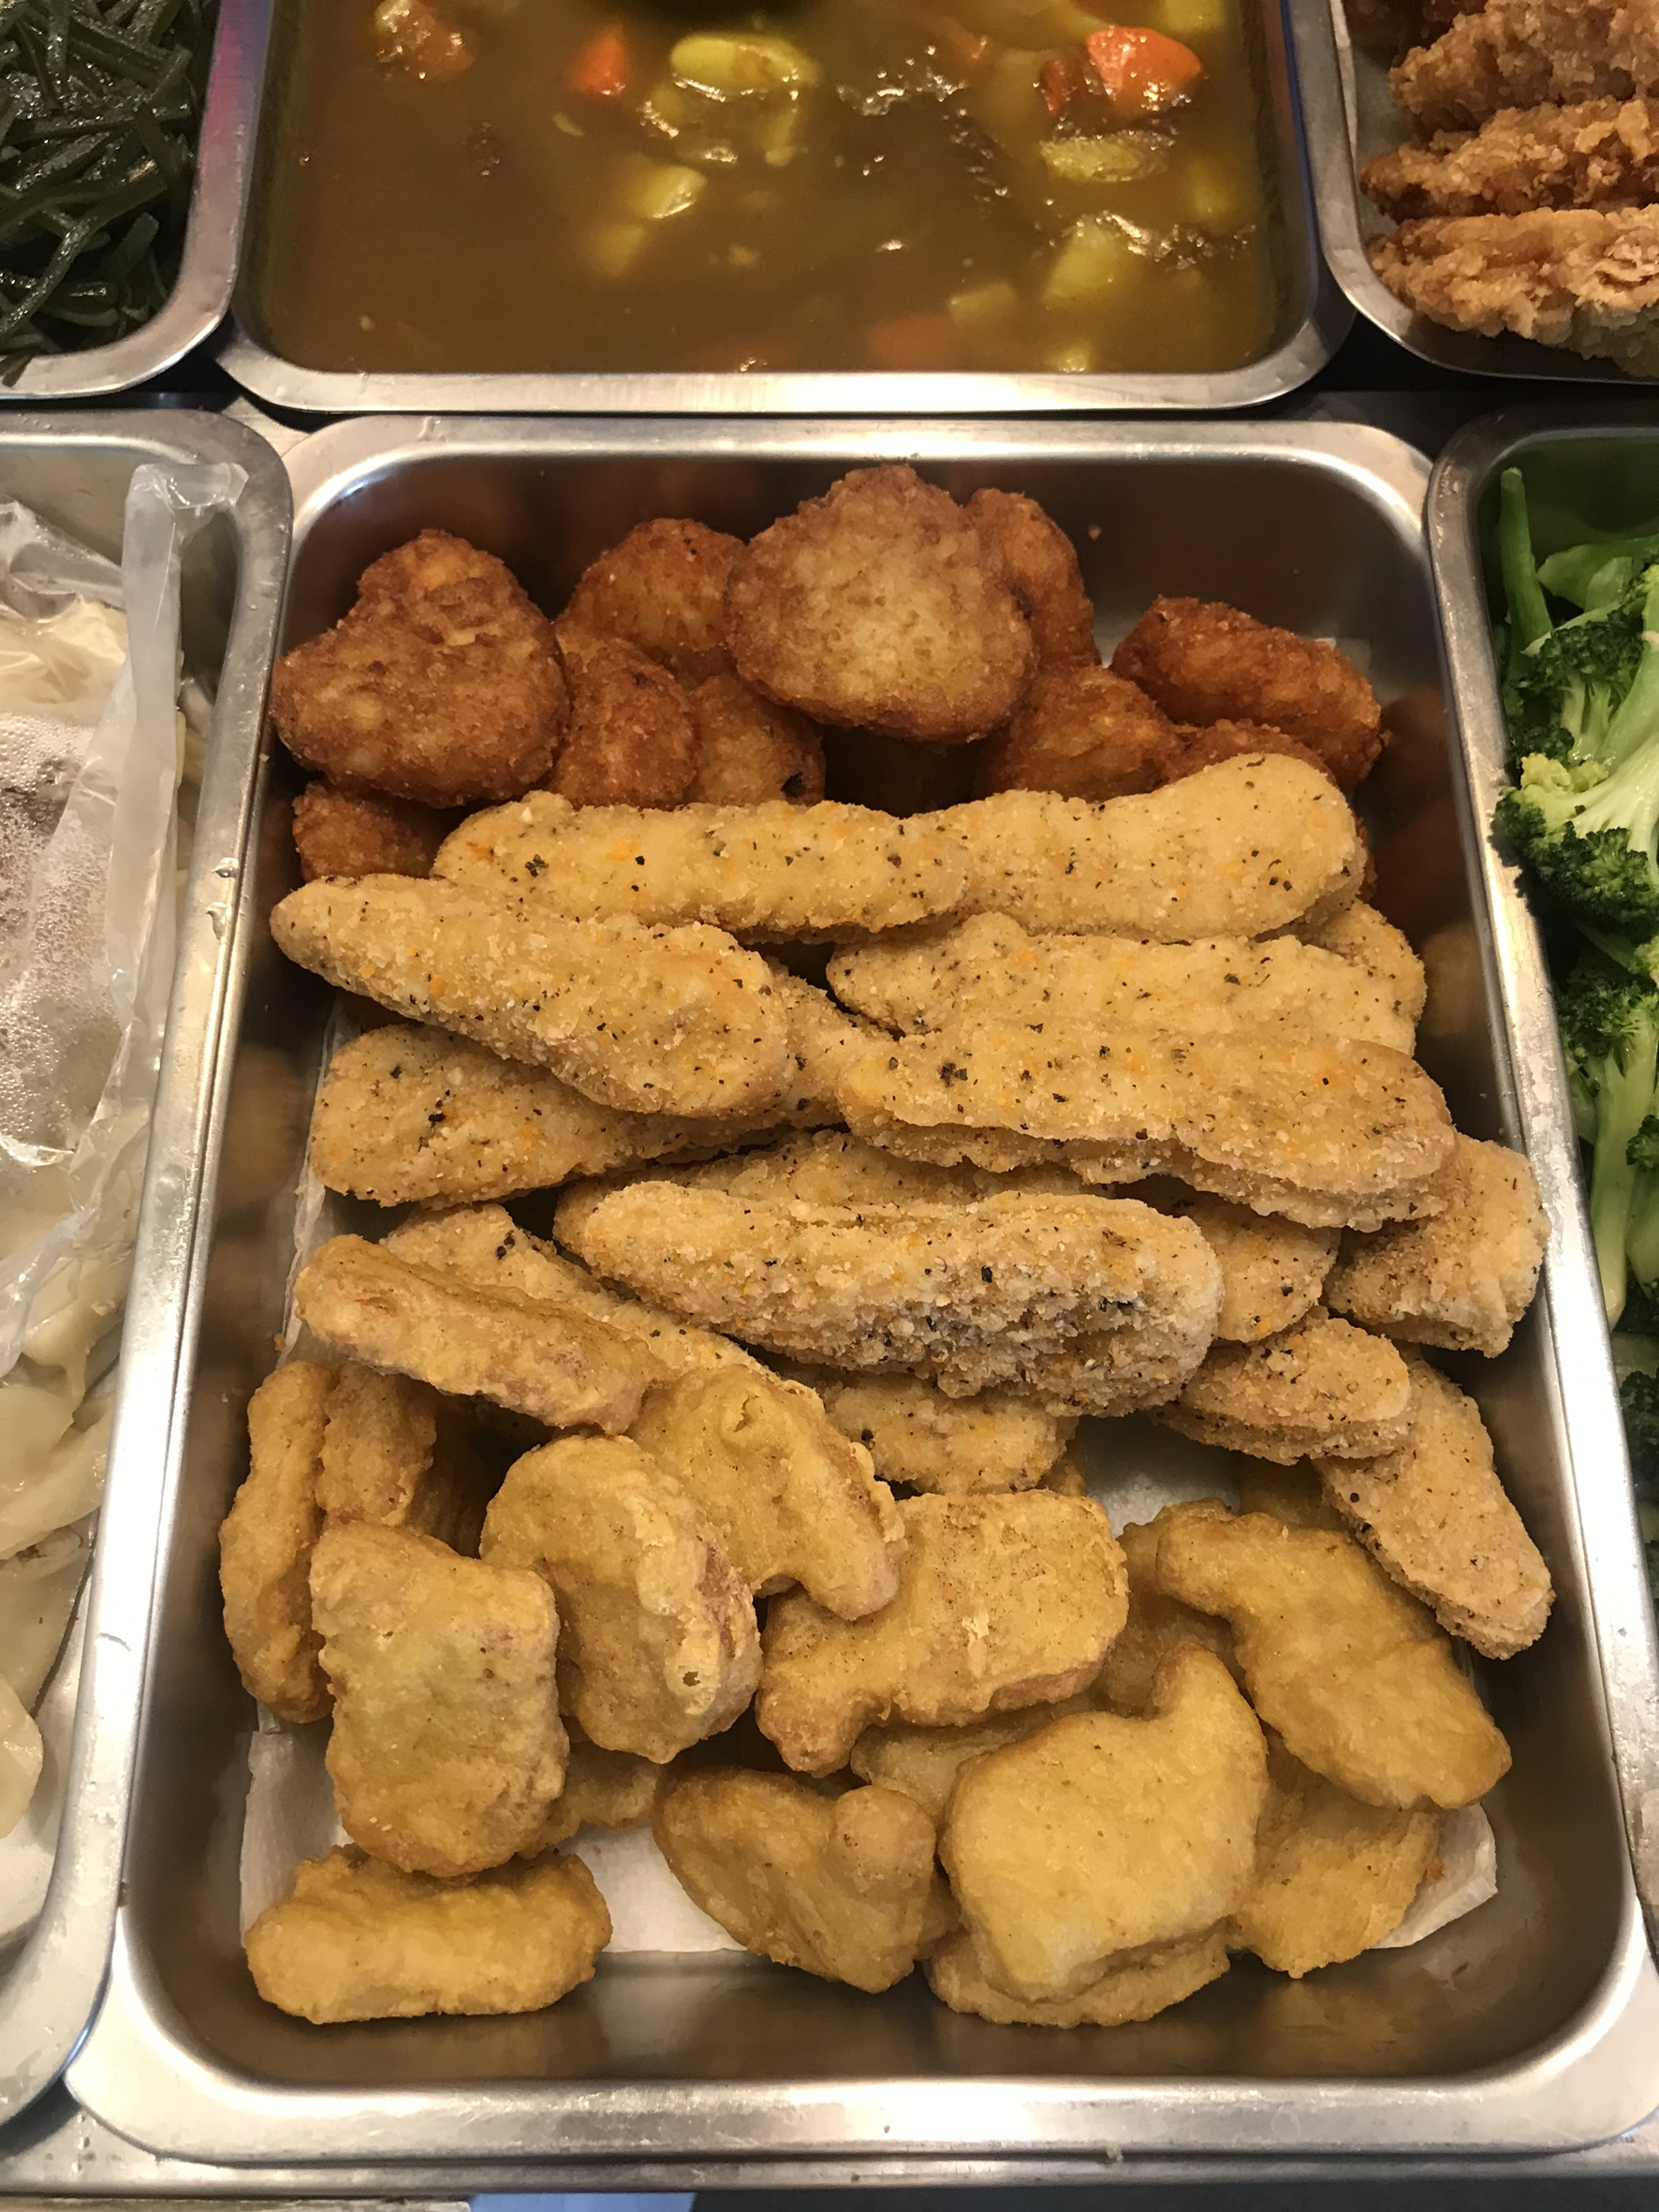chicken_nuggets: (207, 1356, 1560, 2043)
curry: (301, 2, 1244, 357)
triangle_hash_brown: (270, 465, 1391, 783)
